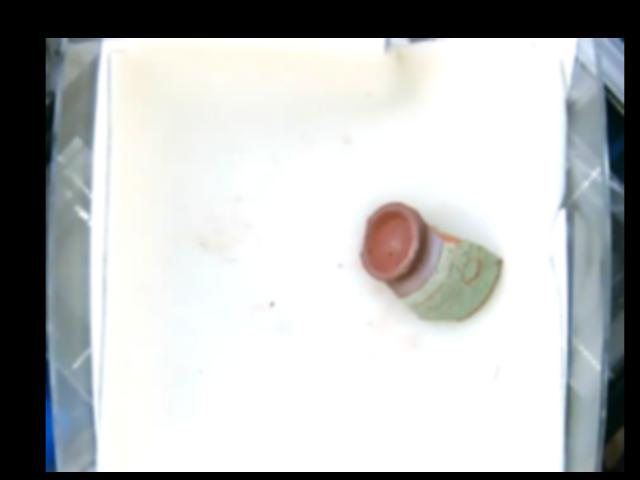China: (363, 202, 503, 319)
